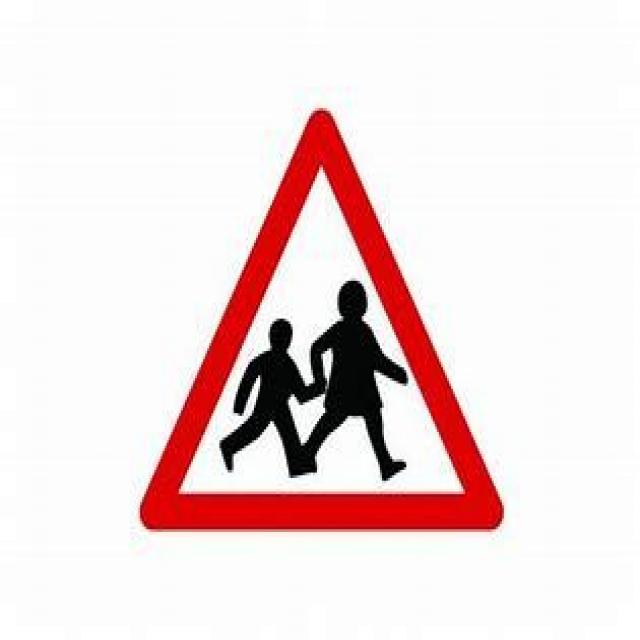SCHOOL_AHEAD: (136, 105, 504, 527)
